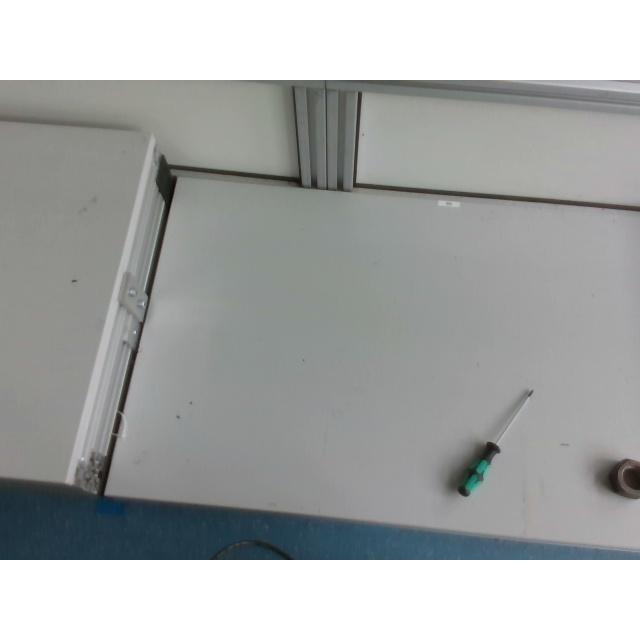M30: (611, 457, 639, 499)
Screwdriver: (457, 388, 533, 494)
